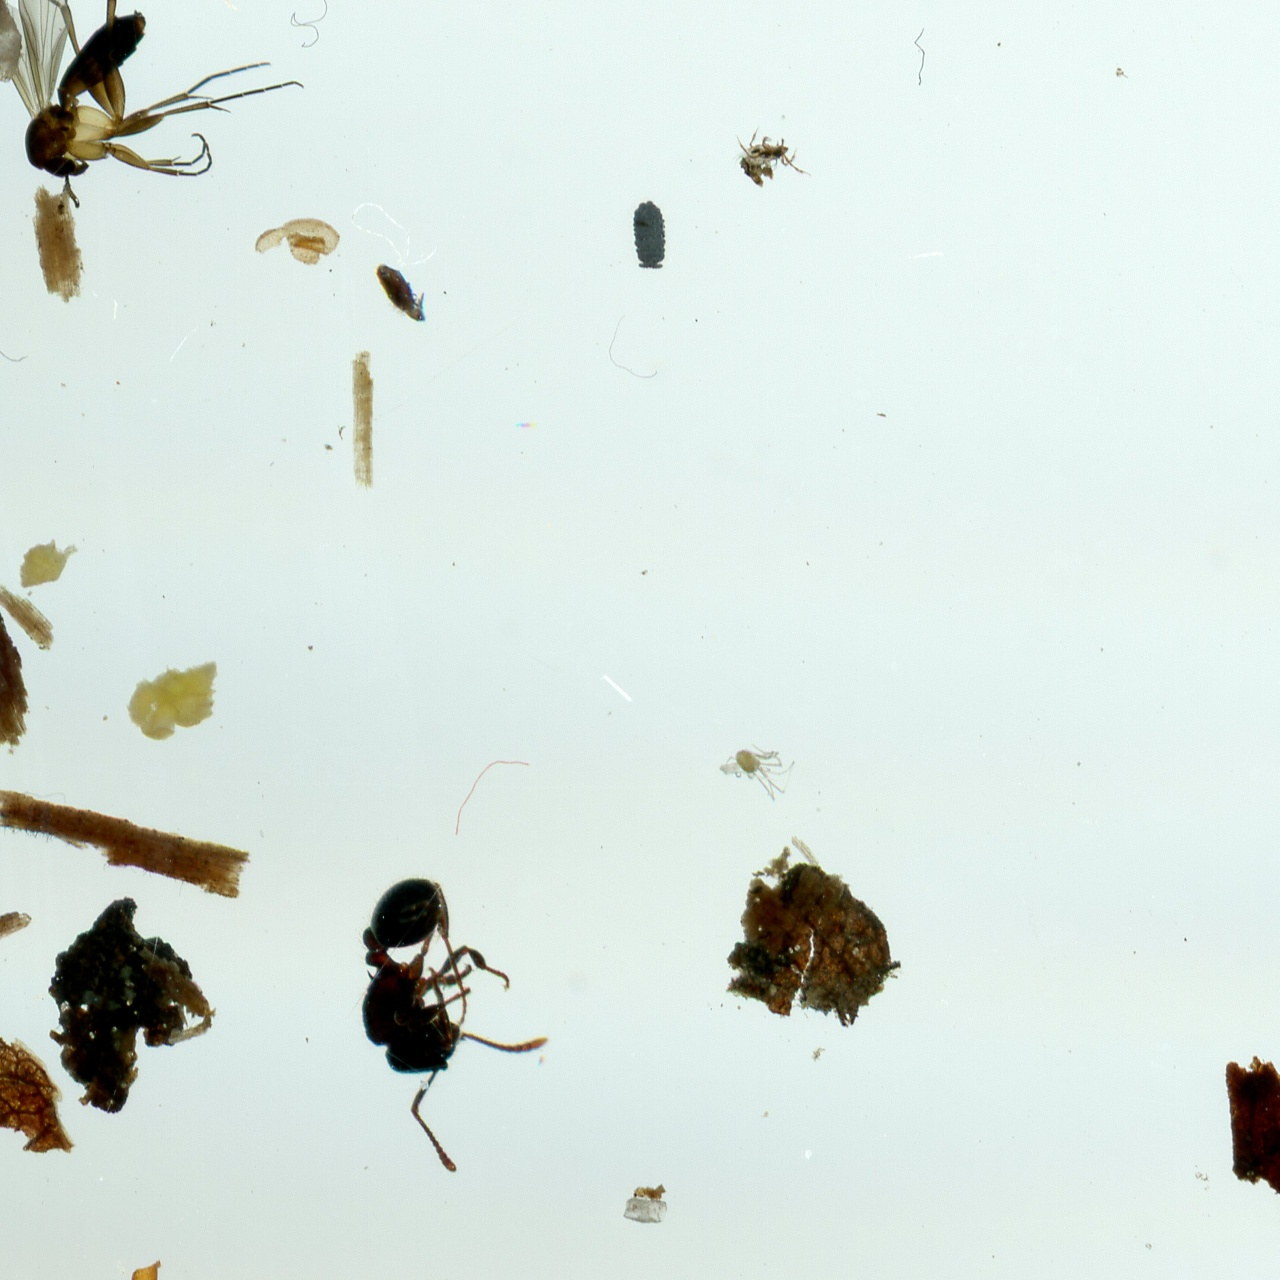arthropod: (0, 0, 316, 215), (349, 873, 557, 1179), (366, 248, 443, 339), (710, 734, 799, 806), (734, 123, 813, 188), (632, 199, 666, 270)
